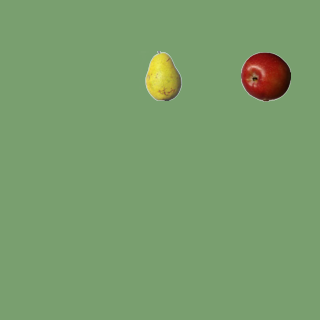Apple Braeburn: (240, 51, 290, 101)
Pear Monster: (138, 50, 188, 100)
